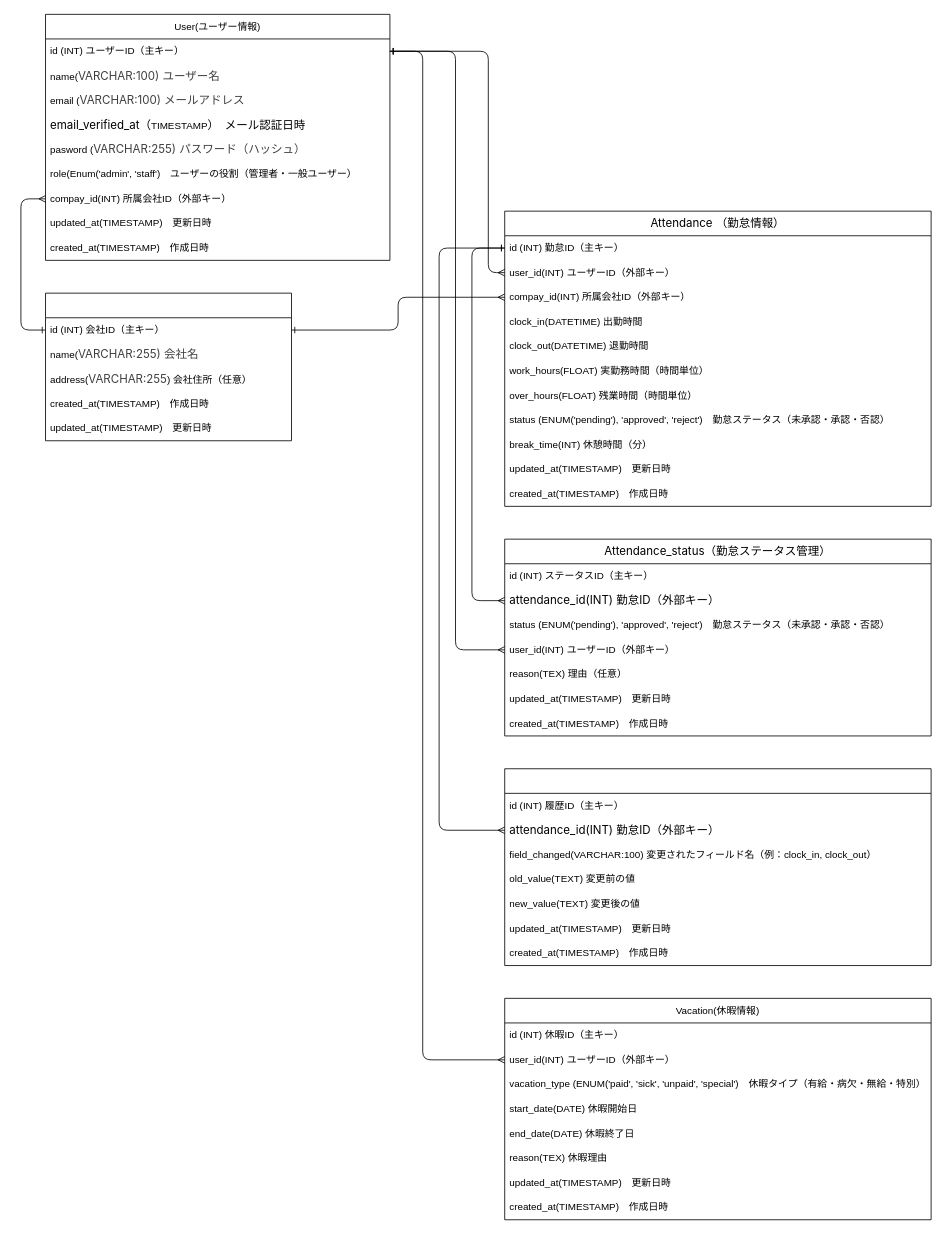
The diagram is 945 pixels wide and 1234 high, and some of its shapes have lost their labels. Here are the shapes that lost their labels. From the top down, the box of each, then its label:
(45, 292, 292, 441): Company （会社情報）
(504, 768, 931, 966): Attendance_history（勤怠変更履歴）
